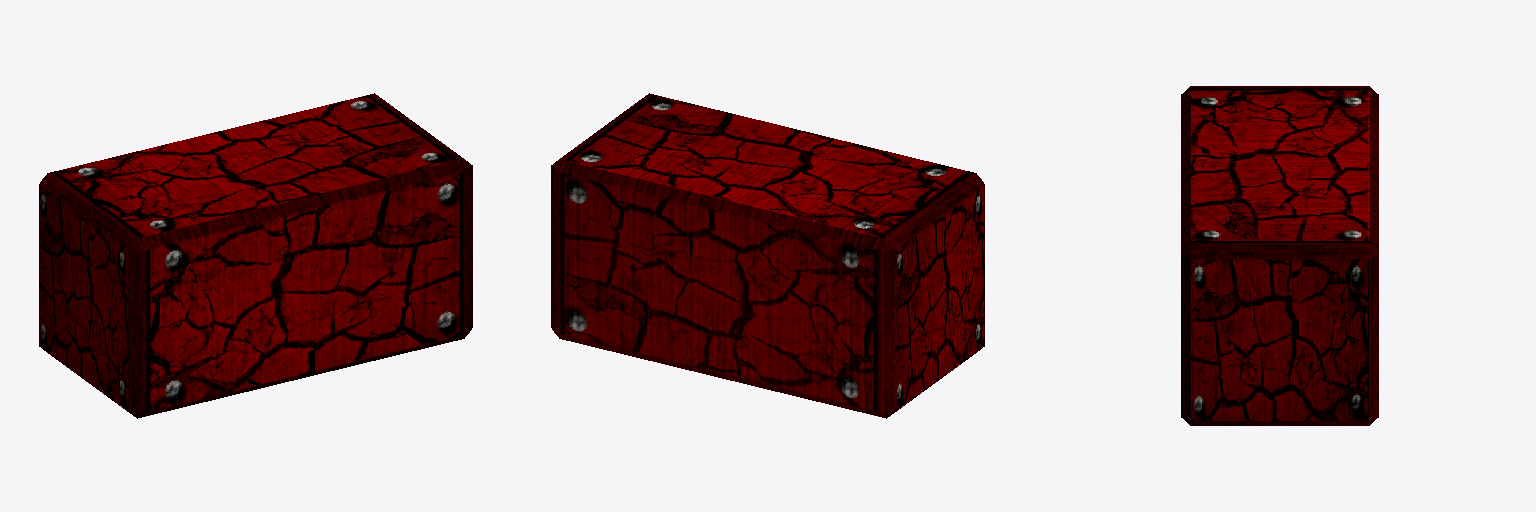
3 renders of one model, left to right at view 1: azimuth 30°, elevation 25°; view 2: azimuth 150°, elevation 25°; view 3: azimuth 270°, elevation 25°, orthographic.
Visible parts, largest first — view 1: default; view 2: default; view 3: default.
Part boxes in pixels (x1,y1,x2,y2): default: (39, 93, 472, 418); default: (551, 93, 984, 418); default: (1181, 86, 1378, 425).
Size of the model in its own units: 2 by 1 by 1.
Materials: 1 (1 with a texture image).